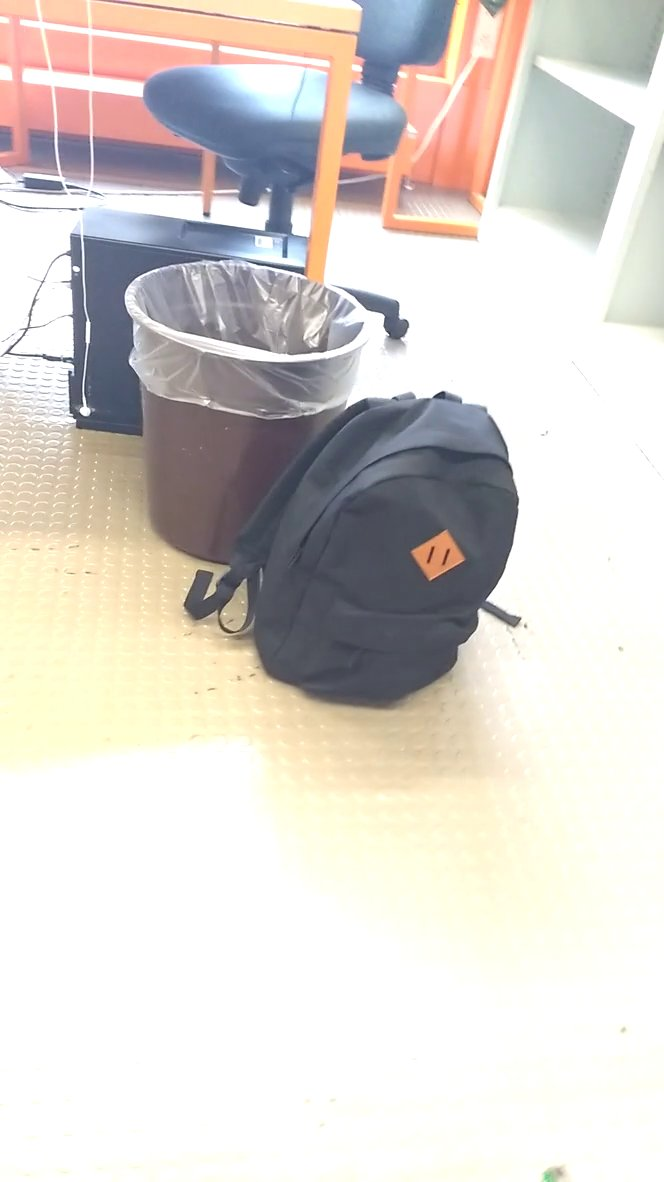bag: (182, 381, 526, 706)
bin: (107, 224, 364, 570)
chair: (144, 1, 460, 334)
